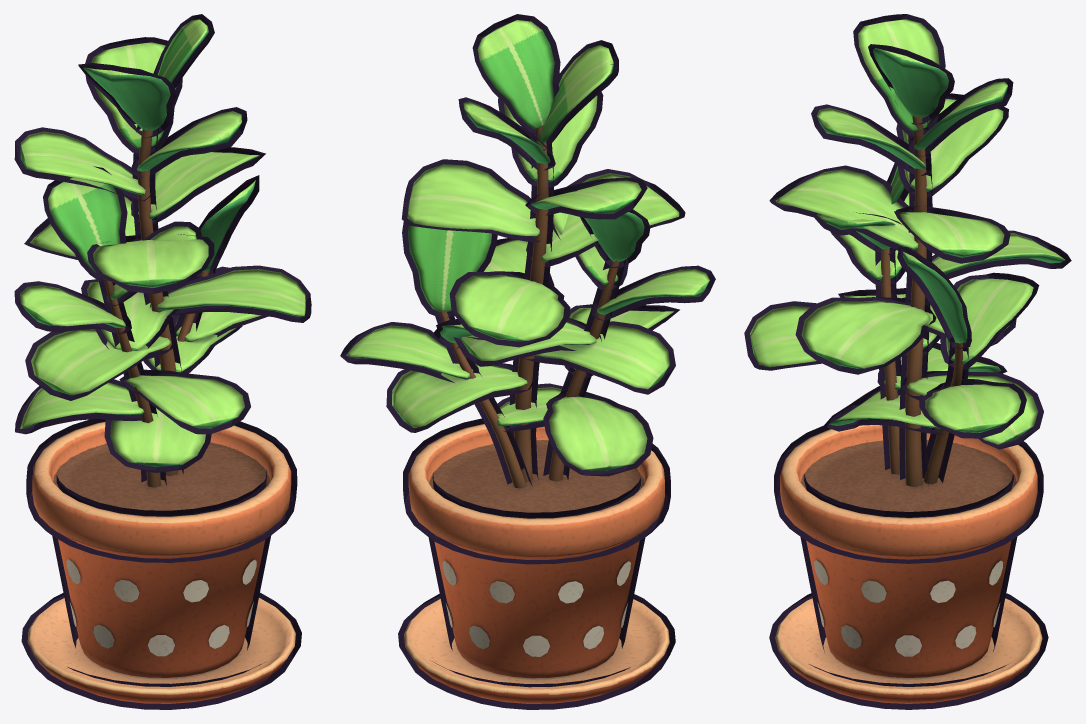
Rendered from PottedPlant.glb.
3 renders of one model, left to right at view 1: azimuth 30°, elevation 25°; view 2: azimuth 150°, elevation 25°; view 3: azimuth 270°, elevation 25°, orthographic.
Parts seen in each view (by area): view 1: PottedPlant, PottedPlant_Outline; view 2: PottedPlant, PottedPlant_Outline; view 3: PottedPlant, PottedPlant_Outline.
Part boxes in pixels (x1,y1,x2,y2): PottedPlant: [20, 19, 305, 703]; PottedPlant_Outline: [14, 14, 311, 709]; PottedPlant: [346, 20, 709, 703]; PottedPlant_Outline: [340, 14, 715, 709]; PottedPlant: [750, 19, 1065, 703]; PottedPlant_Outline: [744, 14, 1071, 709].
Size of the model in its own units: 8.88 by 17.34 by 8.13.
2 materials, 2 textured.
